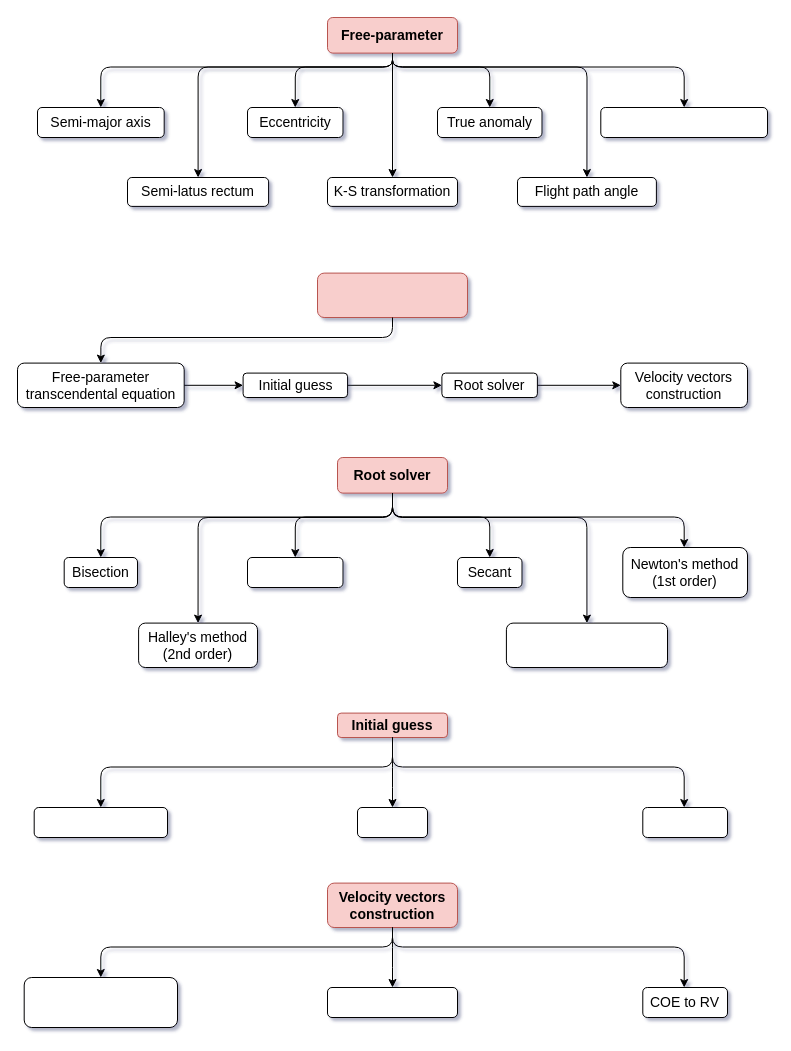
The diagram is 791 pixels wide and 1051 high, and some of its shapes have lost their labels. The shapes that lost their labels are listed below. From the top down, each one's box as (x1, y1, x2, y2) in pixels, then its label:
(600, 106, 768, 138): Universal formulation
(316, 272, 468, 318): Workflow steps of a solver
(246, 556, 343, 588): Regula falsi
(505, 622, 668, 668): Householder's method (3rd order)
(33, 806, 168, 838): Rational formulae
(356, 806, 428, 838): Linear
(642, 806, 728, 838): Bi-linear
(23, 976, 178, 1028): Radial and tangential components
(326, 986, 458, 1018): f and g formulae
